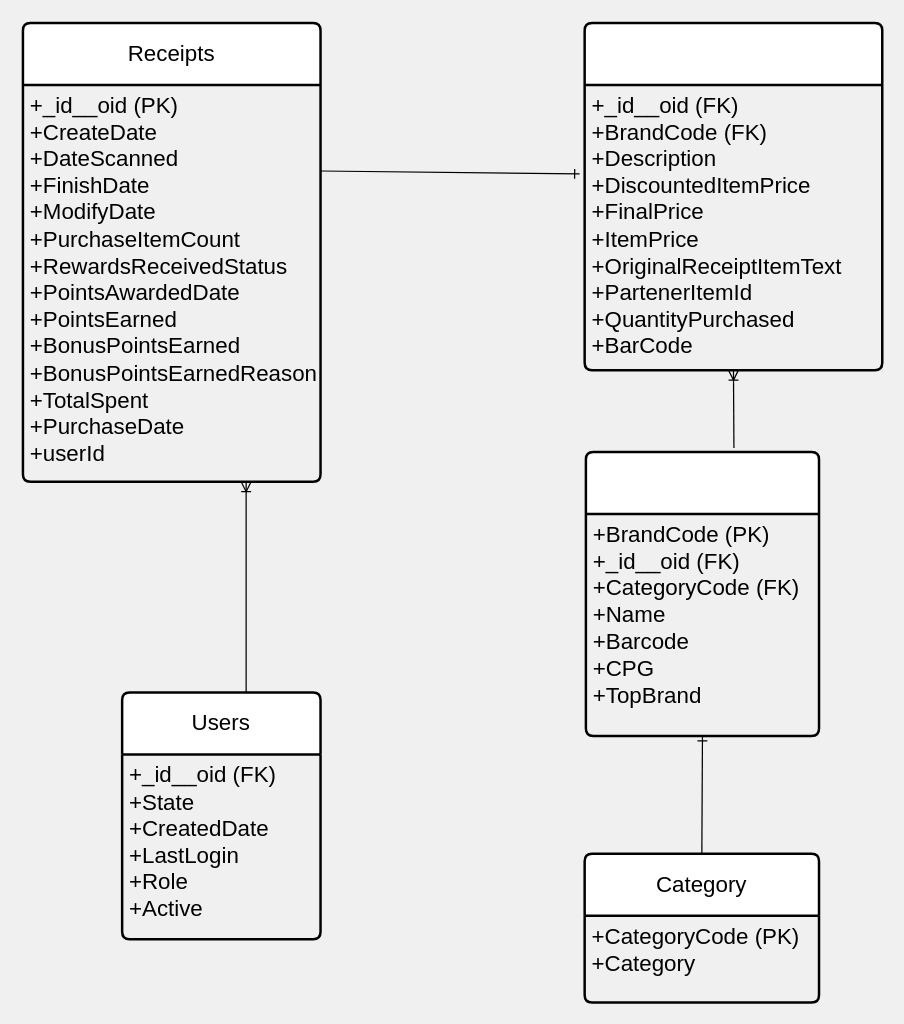
The diagram is 904 pixels wide and 1024 high, and some of its shapes have lost their labels. Here are the shapes that lost their labels. From the top down, the box of each, then its label:
(583, 21, 883, 371): RewardsReceiptItemsList
(584, 450, 820, 737): Brands
